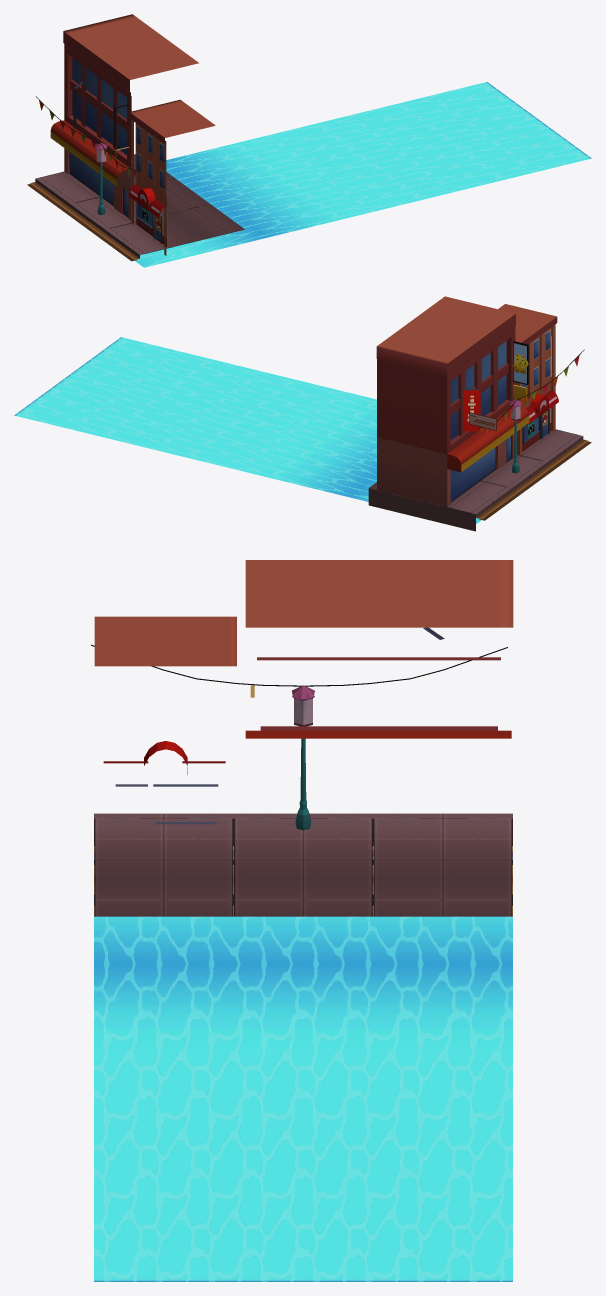
The model's file is 1.100_SanFrancisco_med_02_left.glb.
3 views of the same model, one above another, from view 1: azimuth 30°, elevation 25°; view 2: azimuth 150°, elevation 25°; view 3: azimuth 270°, elevation 25° (orthographic). The views are drawn at different scales.
Visible parts, largest first — view 1: 1.100_SanFrancisco_med_02_left; view 2: 1.100_SanFrancisco_med_02_left; view 3: 1.100_SanFrancisco_med_02_left.
Boxes of the visible parts, bbox=[...] form: 1.100_SanFrancisco_med_02_left: bbox=[27, 14, 591, 267]; 1.100_SanFrancisco_med_02_left: bbox=[14, 296, 591, 531]; 1.100_SanFrancisco_med_02_left: bbox=[91, 560, 513, 1281].
Bounding box in the file's own units: 469 × 149 × 182.
3 materials, 3 textured.
